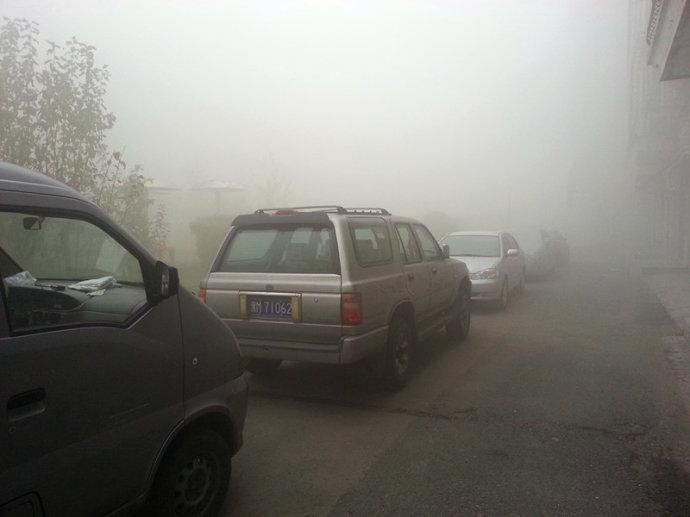car: (2, 160, 252, 517), (190, 206, 473, 390), (428, 231, 526, 310), (501, 228, 550, 279), (527, 228, 571, 268)
